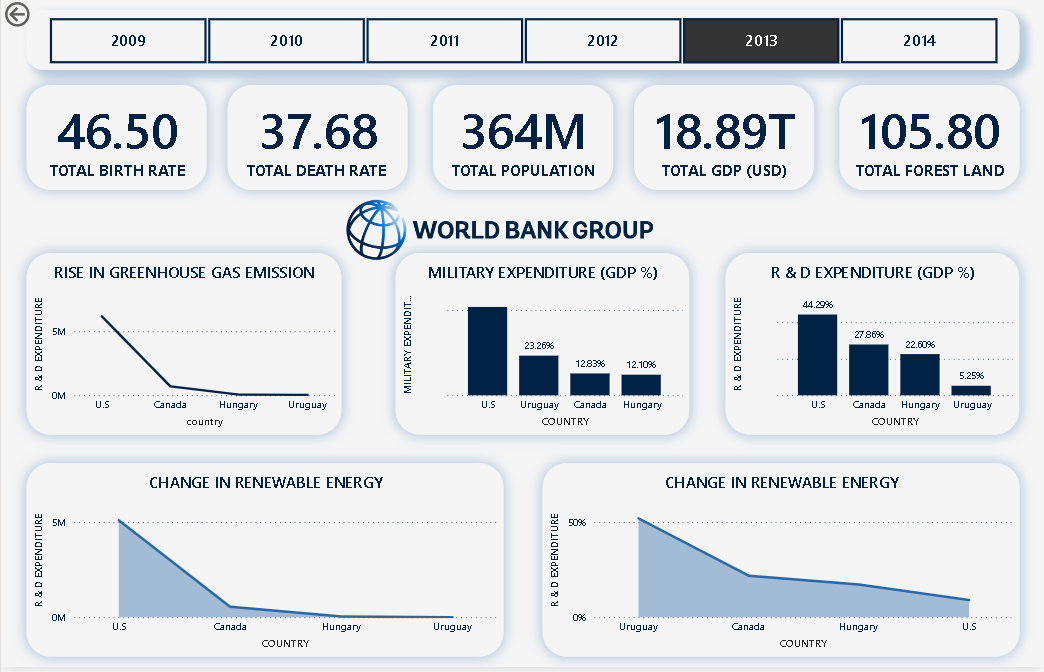

This screenshot's page, from the dashboard's own definition file:
{"tool":"powerbi","page":{"name":"Page 1","canvas":[1280,820],"ordinal":0},"visuals":[{"type":"columnChart","title":"MILITARY EXPENDITURE (GDP %)","fields":{"Category":["world_bank_development_indicators.country"],"Y":["Divide(Sum(world_bank_development_indicators.military_expenditure%), ScopedEval(Sum(world_bank_development_indicators.mi"]},"box":[483.5,312.5,360.3,222.4],"z":0},{"type":"slicer","fields":{"Values":["world_bank_development_indicators.date.Variation.Date Hierarchy.Year"]},"box":[31.2,14.7,1216.9,73.5],"z":1000},{"type":"image","box":[417.3,235.3,387.9,97.4],"z":2000},{"type":"clusteredColumnChart","title":"R & D EXPENDITURE (GDP %)","fields":{"Category":["world_bank_development_indicators.country"],"Y":["Divide(Sum(world_bank_development_indicators.research_and_development_expenditure%), ScopedEval(Sum(world_bank_developme"]},"box":[887.9,312.5,360.3,222.4],"z":2001},{"type":"areaChart","title":"CHANGE IN RENEWABLE ENERGY","fields":{"Category":["world_bank_development_indicators.country"],"Y":["Divide(Sum(world_bank_development_indicators.renewvable_energy_consumption%), ScopedEval(Sum(world_bank_development_indi"]},"box":[663.6,569.8,584.6,237.1],"z":2002},{"type":"lineChart","title":"RISE IN GREENHOUSE GAS EMISSION","fields":{"Y":["Sum(world_bank_development_indicators.other_greenhouse_emisions)"],"Category":["world_bank_development_indicators.country"]},"box":[31.2,312.5,386,222.4],"z":2003},{"type":"areaChart","title":"CHANGE IN RENEWABLE ENERGY","fields":{"Category":["world_bank_development_indicators.country"],"Y":["Sum(world_bank_development_indicators.CO2_emisions)"]},"box":[31.2,569.8,584.6,237.1],"z":2004},{"type":"card","fields":{"Values":["Sum(world_bank_development_indicators.death_rate)"]},"box":[277.6,106.6,220.6,128.7],"z":2006},{"type":"card","fields":{"Values":["Sum(world_bank_development_indicators.population)"]},"box":[529.4,106.6,220.6,128.7],"z":2008},{"type":"card","fields":{"Values":["Sum(world_bank_development_indicators.GDP_current_US)"]},"box":[775.7,106.6,220.6,128.7],"z":2009},{"type":"card","fields":{"Values":["Sum(world_bank_development_indicators.forest_land%)"]},"box":[1027.6,106.6,220.6,128.7],"z":2010},{"type":"actionButton","box":[0,0,100,40],"z":2011},{"type":"card","fields":{"Values":["Sum(world_bank_development_indicators.birth_rate)"]},"box":[31.2,106.6,220.6,128.7],"z":2012}]}

Visuals, with their boxes in screenshot pixels (x1, y1, x2, y2), scaled from the page's 1280x820 canvas onto the 1044x672 screenshot:
"MILITARY EXPENDITURE (GDP %)" columnChart: pyautogui.locateOnScreen(394, 256, 688, 438)
slicer - world_bank_development_indicators.date.Variation.Date Hierarchy.Year: pyautogui.locateOnScreen(25, 12, 1018, 72)
image: pyautogui.locateOnScreen(340, 193, 657, 273)
"R & D EXPENDITURE (GDP %)" clusteredColumnChart: pyautogui.locateOnScreen(724, 256, 1018, 438)
"CHANGE IN RENEWABLE ENERGY" areaChart: pyautogui.locateOnScreen(541, 467, 1018, 661)
"RISE IN GREENHOUSE GAS EMISSION" lineChart: pyautogui.locateOnScreen(25, 256, 340, 438)
"CHANGE IN RENEWABLE ENERGY" areaChart: pyautogui.locateOnScreen(25, 467, 502, 661)
card - Sum(world_bank_development_indicators.death_rate): pyautogui.locateOnScreen(226, 87, 406, 193)
card - Sum(world_bank_development_indicators.population): pyautogui.locateOnScreen(432, 87, 612, 193)
card - Sum(world_bank_development_indicators.GDP_current_US): pyautogui.locateOnScreen(633, 87, 813, 193)
card - Sum(world_bank_development_indicators.forest_land%): pyautogui.locateOnScreen(838, 87, 1018, 193)
actionButton: pyautogui.locateOnScreen(0, 0, 82, 33)
card - Sum(world_bank_development_indicators.birth_rate): pyautogui.locateOnScreen(25, 87, 205, 193)
